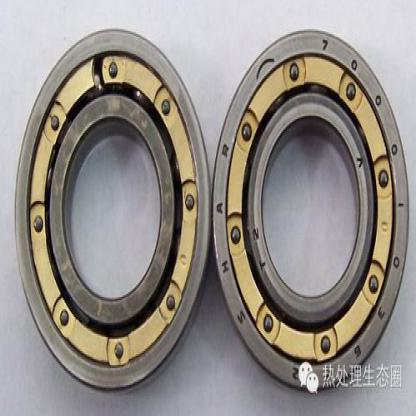FOD: (11, 22, 212, 399), (212, 23, 410, 396)
